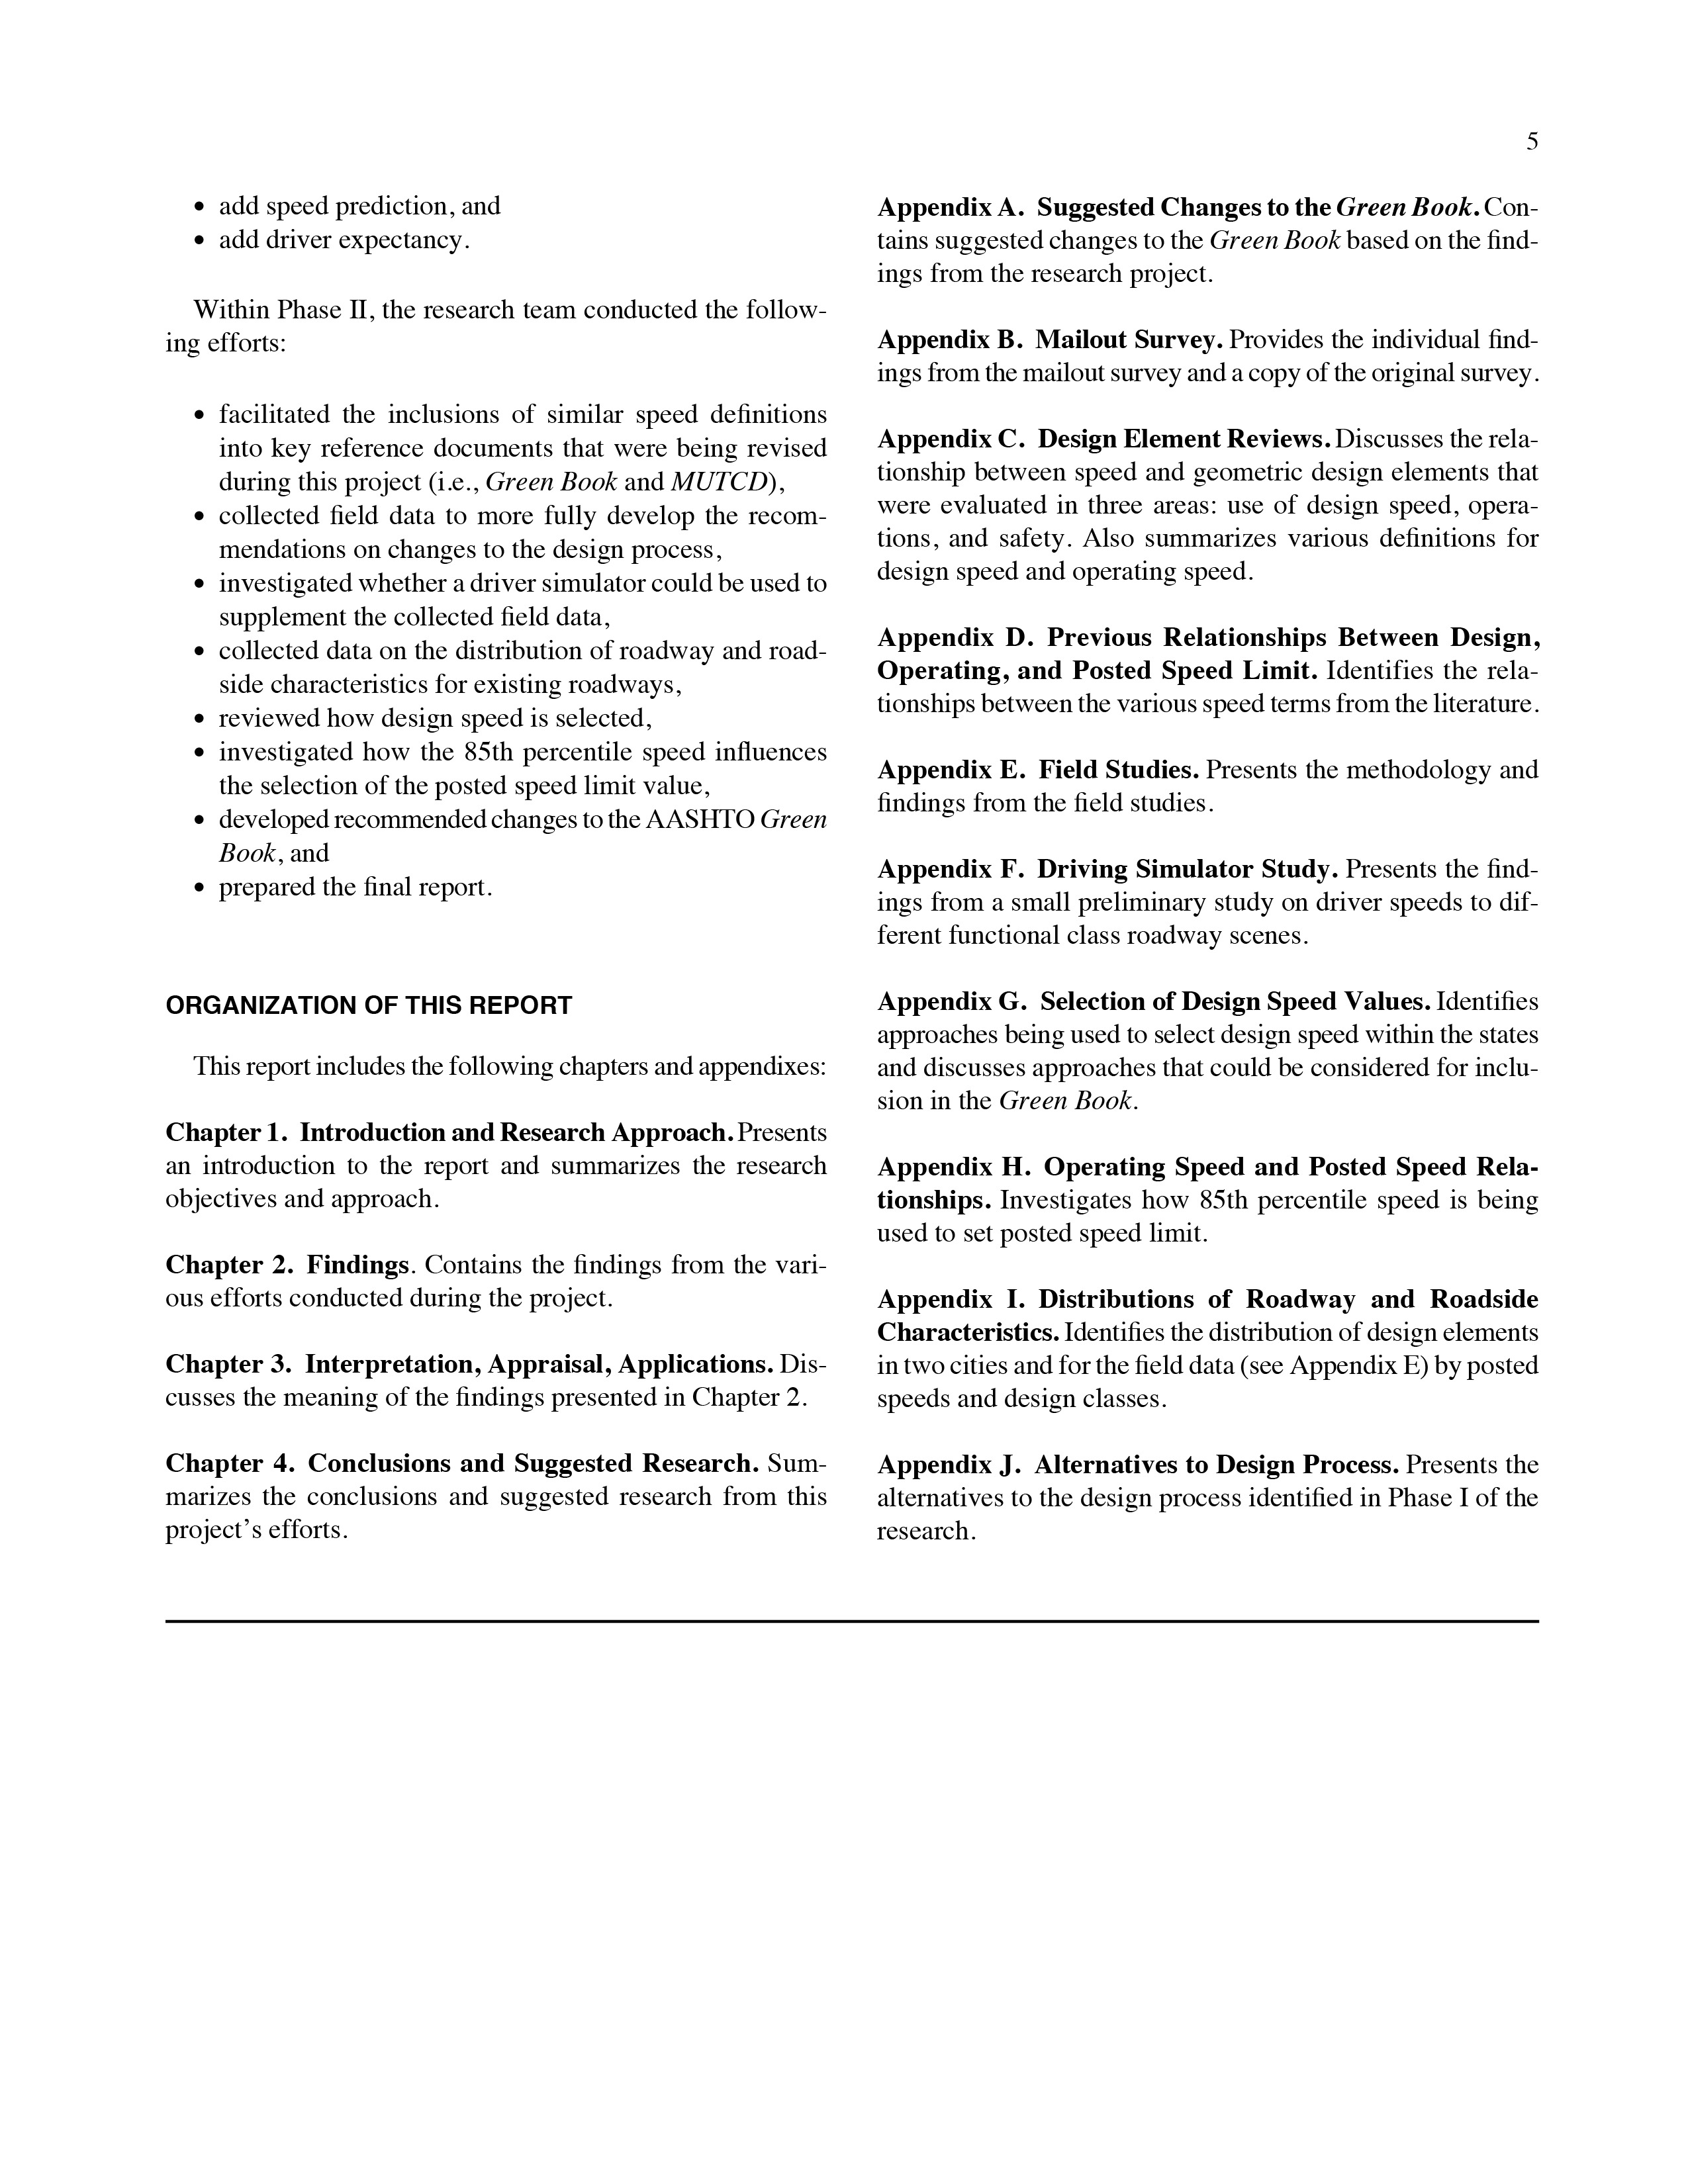list: (869, 165, 1569, 1565), (183, 376, 846, 918), (156, 1113, 830, 1565), (179, 179, 528, 275)
section: (160, 975, 574, 1028)
text: (149, 280, 839, 374), (202, 1037, 853, 1087)
